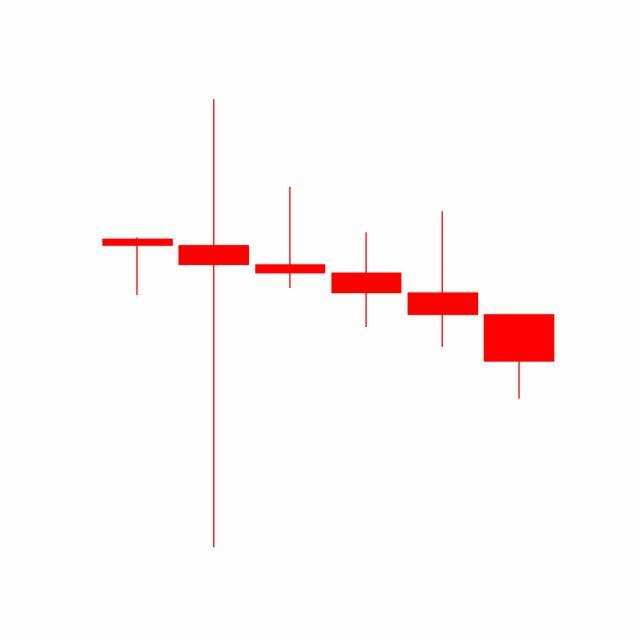Spinning Top: (404, 210, 482, 350)
